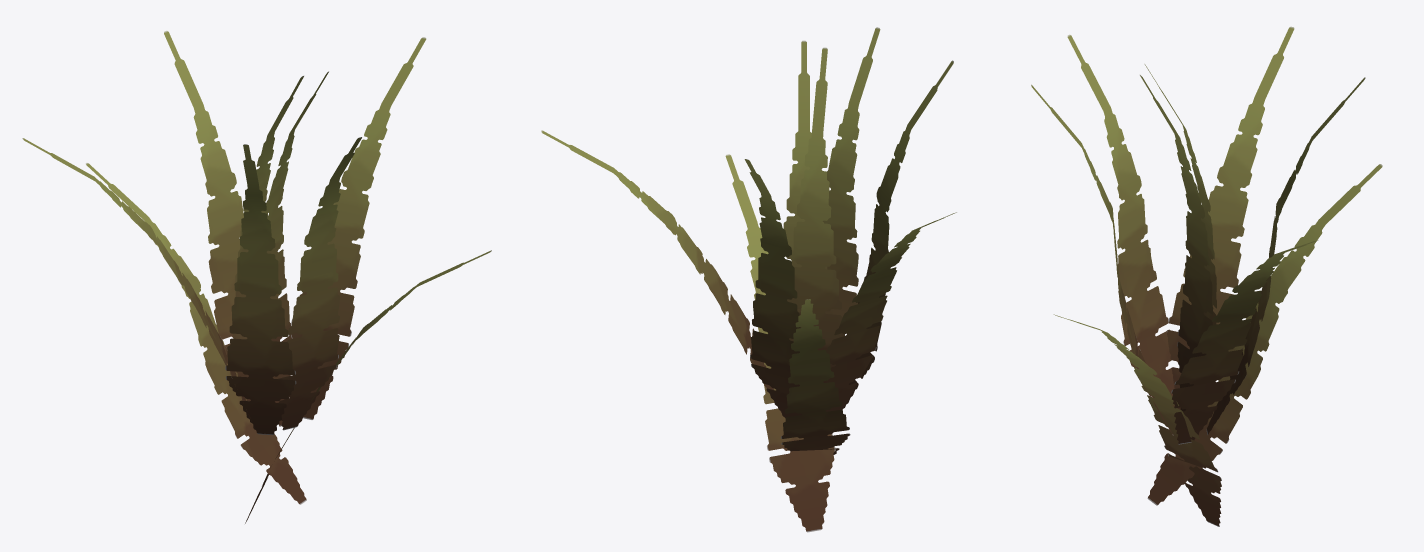
File: SM_TallGrassV2.fbx
3 views of the same model, side by side, from view 1: azimuth 30°, elevation 25°; view 2: azimuth 150°, elevation 25°; view 3: azimuth 270°, elevation 25° (orthographic). The views are drawn at different scales.
Parts seen in each view (by area): view 1: SM_TallGrassV2; view 2: SM_TallGrassV2; view 3: SM_TallGrassV2.
Boxes of the visible parts, left/top/right/bottom form: SM_TallGrassV2: left=22, top=30, right=491, bottom=523; SM_TallGrassV2: left=541, top=27, right=956, bottom=532; SM_TallGrassV2: left=1031, top=26, right=1382, bottom=526.
Size of the model in its own units: 507 by 505 by 371.
